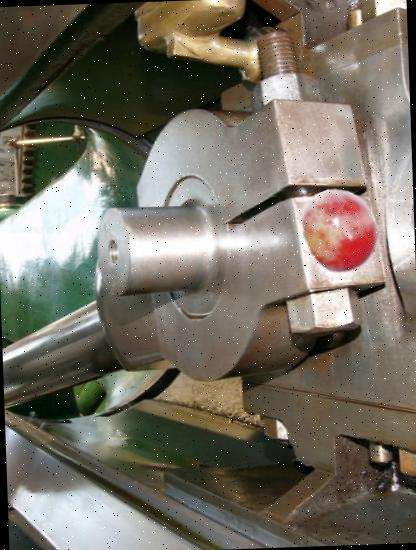Cherry: (297, 186, 386, 275)
